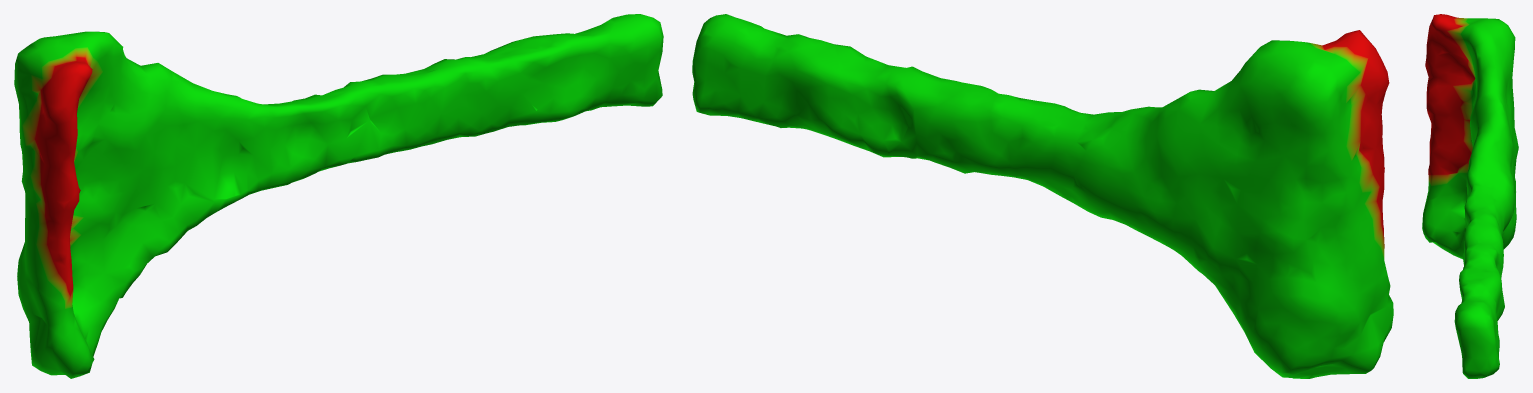
The model's file is meiying_plunger.obj.
The picture shows the model from 3 angles, left to right: view 1: azimuth 30°, elevation 25°; view 2: azimuth 150°, elevation 25°; view 3: azimuth 270°, elevation 25°; orthographic projection. The views are drawn at different scales.
Size of the model in its own units: 0.3398 by 0.1642 by 0.0604.
